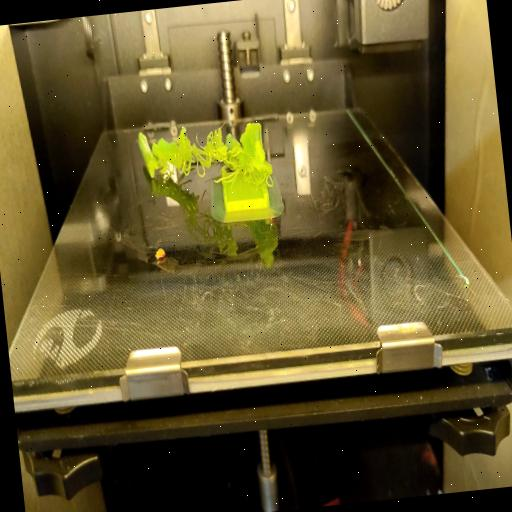spaghetti: (152, 119, 274, 196)
